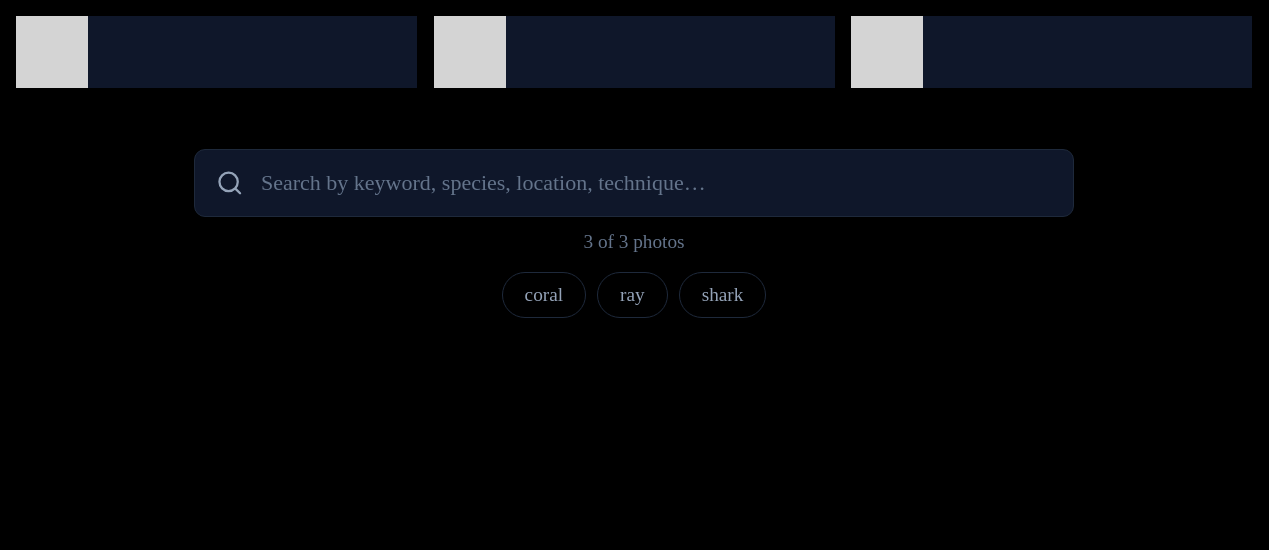
Portfolio › shows the "no results" message when the query matches nothing
In the field: (634, 182) [194, 148, 1074, 216], type "zzznomatch"
Wait 150 ms
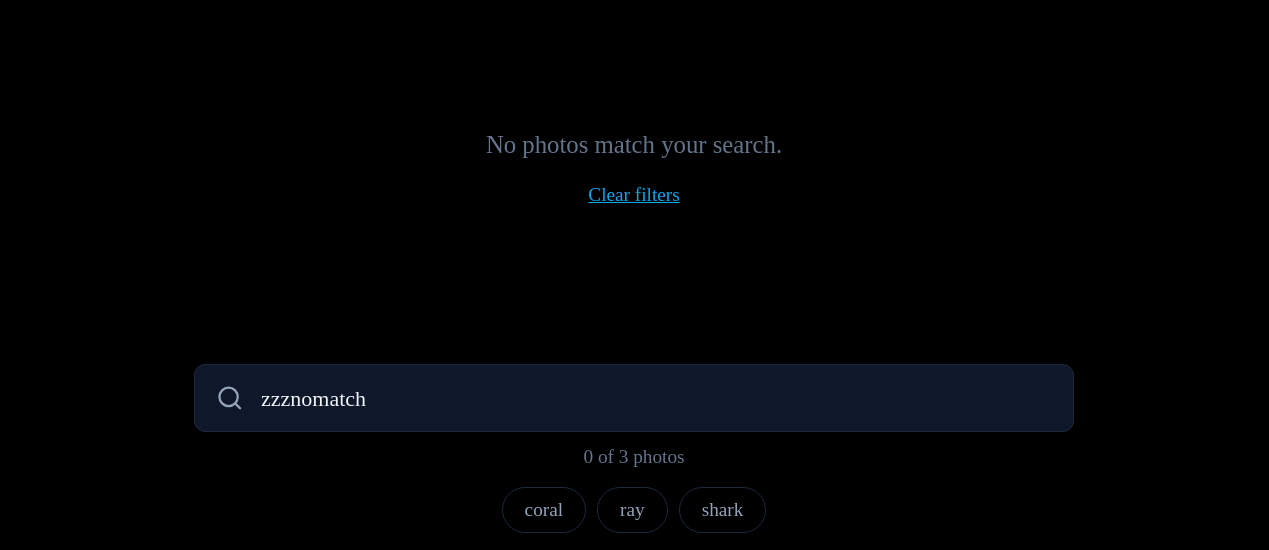
Check: the text "No photos match your search." is shown, box [486, 131, 782, 158]
